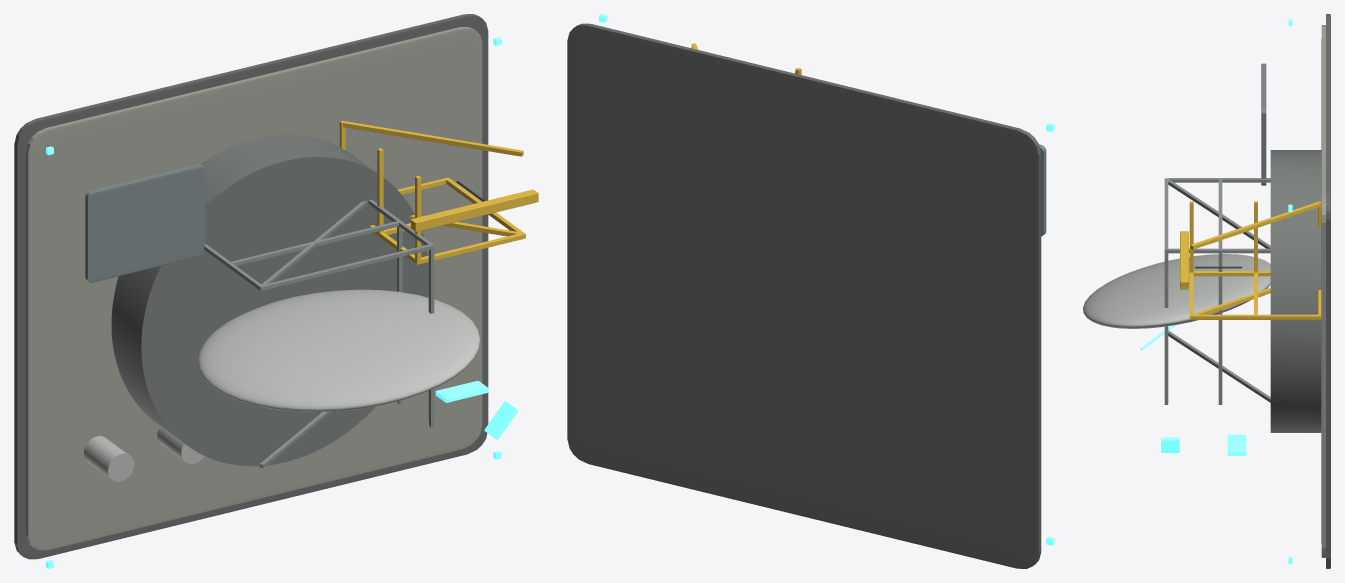
Rendered from b-44-uplink-lod2.glb.
3 views of the same model, side by side, from view 1: azimuth 30°, elevation 25°; view 2: azimuth 150°, elevation 25°; view 3: azimuth 270°, elevation 25° (orthographic). The views are drawn at different scales.
Parts seen in each view (by area): view 1: foundation_inner_pad, primary_concrete_mound, primary_uplink_dish_dish, foundation, uplink_substation_roof, uplink_service_crane_bridge, uplink_chiller_0, uplink_service_crane_brace_a_1.5, uplink_dish_frame_beam_x_2_n, uplink_dish_frame_beam_x_1_n, uplink_dish_frame_brace_b_3.25, uplink_service_crane_beam_x_2_s (+4 smaller); view 2: foundation; view 3: primary_concrete_mound, primary_uplink_dish_dish, foundation, foundation_inner_pad, uplink_service_crane_brace_a_1.5, uplink_service_crane_column_e_s, uplink_substation_roof, uplink_dish_frame_beam_y_1_e, uplink_dish_frame_beam_y_2_e, uplink_dish_frame_brace_b_-3.25, uplink_dish_frame_brace_b_3.25, uplink_service_crane_bridge (+7 smaller).
Boxes of the visible parts, x1,y1,x2,y2 form: foundation_inner_pad: [25, 27, 482, 550]; primary_concrete_mound: [111, 135, 428, 466]; primary_uplink_dish_dish: [197, 289, 480, 411]; foundation: [14, 14, 488, 559]; uplink_substation_roof: [85, 164, 205, 282]; uplink_service_crane_bridge: [411, 189, 538, 231]; uplink_chiller_0: [84, 436, 134, 481]; uplink_service_crane_brace_a_1.5: [342, 121, 523, 156]; uplink_dish_frame_beam_x_2_n: [258, 244, 433, 290]; uplink_dish_frame_beam_x_1_n: [227, 221, 398, 267]; uplink_dish_frame_brace_b_3.25: [261, 200, 367, 284]; uplink_service_crane_beam_x_2_s: [415, 233, 525, 264]; foundation: [567, 23, 1041, 568]; primary_concrete_mound: [1270, 150, 1321, 432]; primary_uplink_dish_dish: [1083, 254, 1270, 328]; foundation: [1326, 14, 1330, 568]; foundation_inner_pad: [1321, 25, 1325, 557]; uplink_service_crane_brace_a_1.5: [1190, 202, 1320, 249]; uplink_service_crane_column_e_s: [1192, 314, 1319, 319]; uplink_substation_roof: [1261, 63, 1266, 185]; uplink_dish_frame_beam_y_1_e: [1218, 249, 1222, 404]; uplink_dish_frame_beam_y_2_e: [1164, 248, 1168, 404]; uplink_dish_frame_brace_b_-3.25: [1168, 331, 1270, 402]; uplink_dish_frame_brace_b_3.25: [1168, 179, 1270, 248]; uplink_service_crane_bridge: [1180, 231, 1188, 289].
Size of what is drawn, in the model's own units: 18 by 16 by 9.65.
